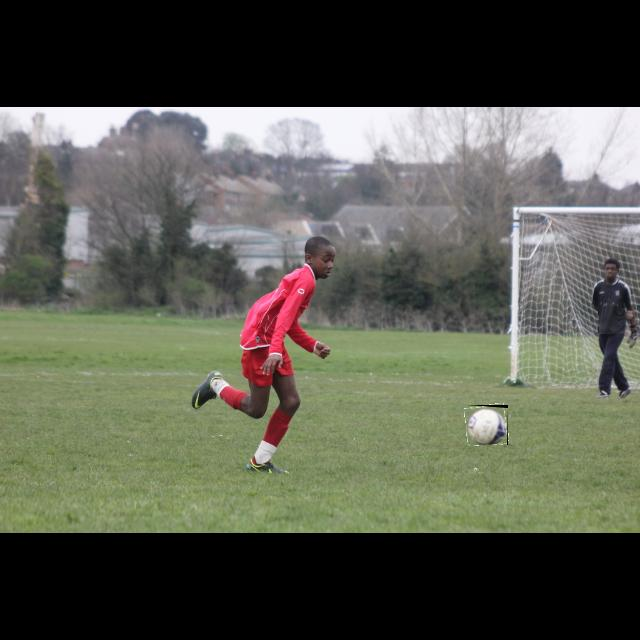Football: (466, 405, 508, 445)
